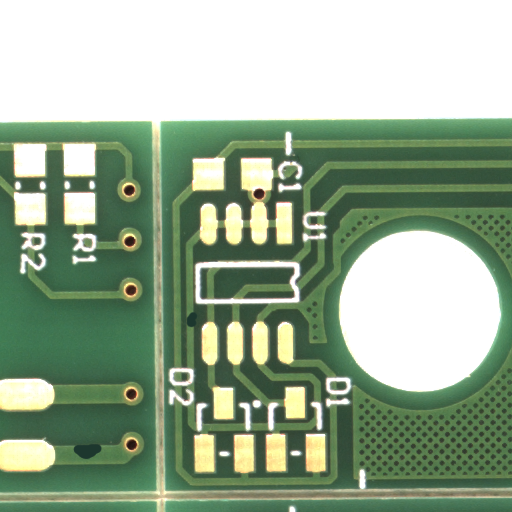Mouse_bite: (88, 451, 119, 466), (191, 319, 203, 333)
